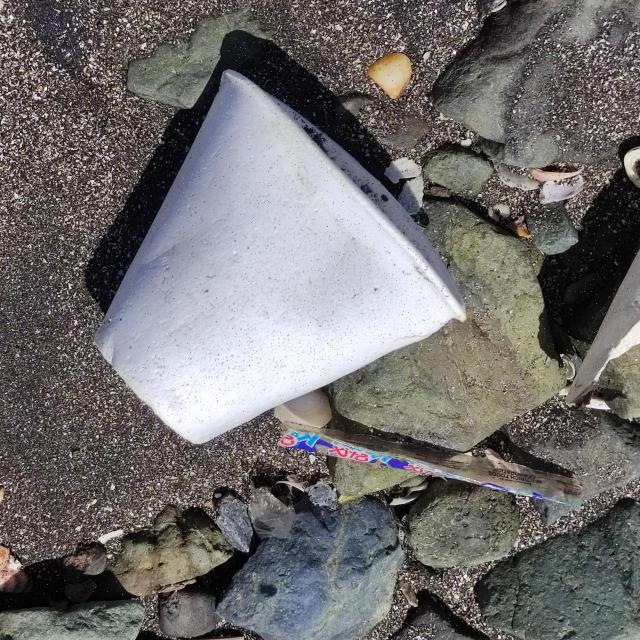plastic_waste: (276, 422, 586, 515)
styrofoam_waste: (93, 67, 467, 446)
